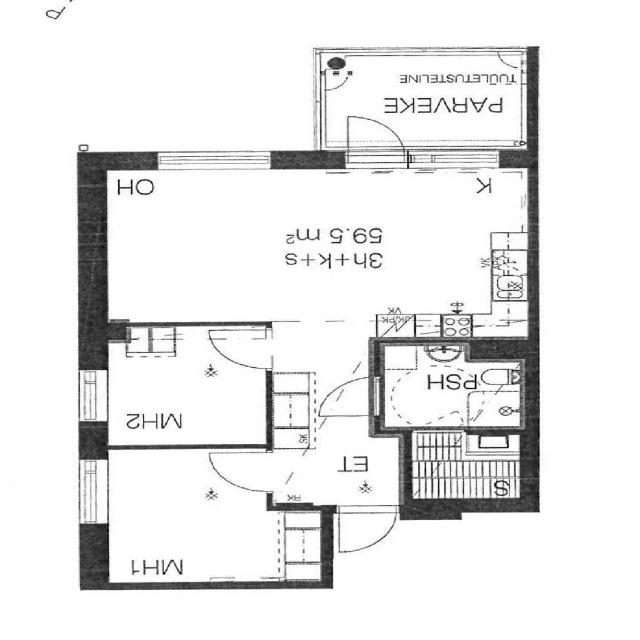door: (348, 112, 406, 168), (309, 376, 385, 416), (339, 504, 395, 552), (208, 453, 272, 491), (208, 331, 272, 368), (414, 392, 465, 434)
